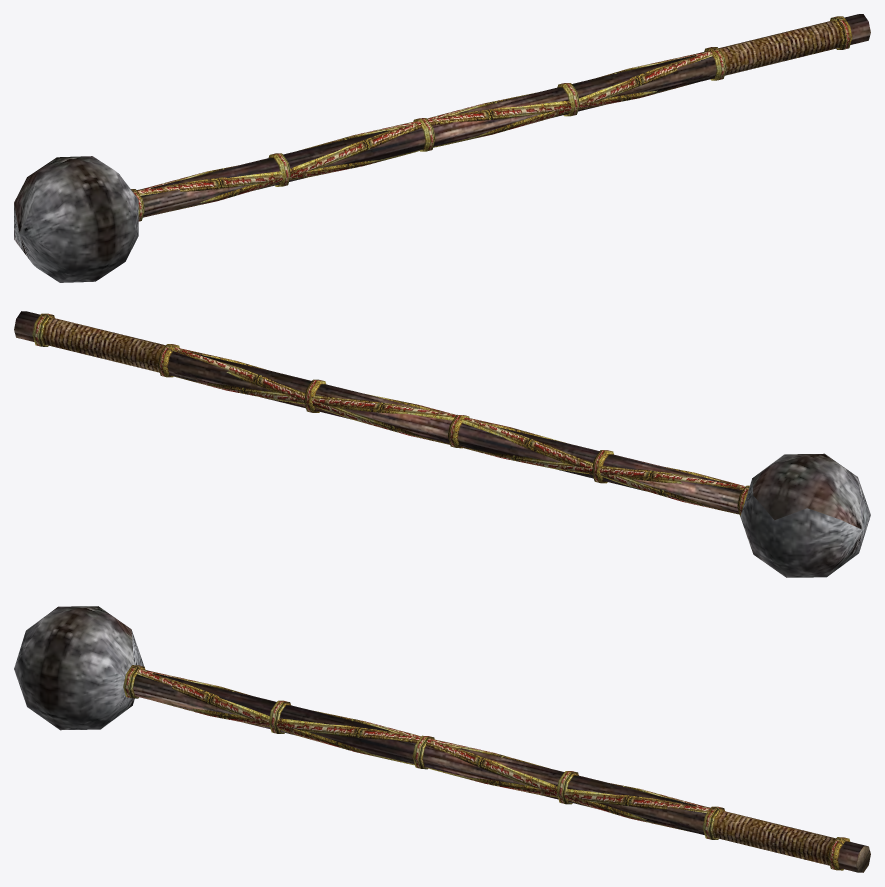
The model's file is ITMW_MAGESTAFF_BALL_2H_01.glb.
3 views of the same model, one above another, from view 1: azimuth 30°, elevation 25°; view 2: azimuth 150°, elevation 25°; view 3: azimuth 330°, elevation 25° (orthographic).
Parts seen in each view (by area): view 1: Mesh; view 2: Mesh; view 3: Mesh.
Part boxes in pixels (x1=…): Mesh: x1=14, y1=14, x2=870, y2=282; Mesh: x1=14, y1=311, x2=870, y2=577; Mesh: x1=14, y1=606, x2=870, y2=872.
Size of the model in its own units: 1.78 by 0.24 by 0.2282.
3 materials, 3 textured.
